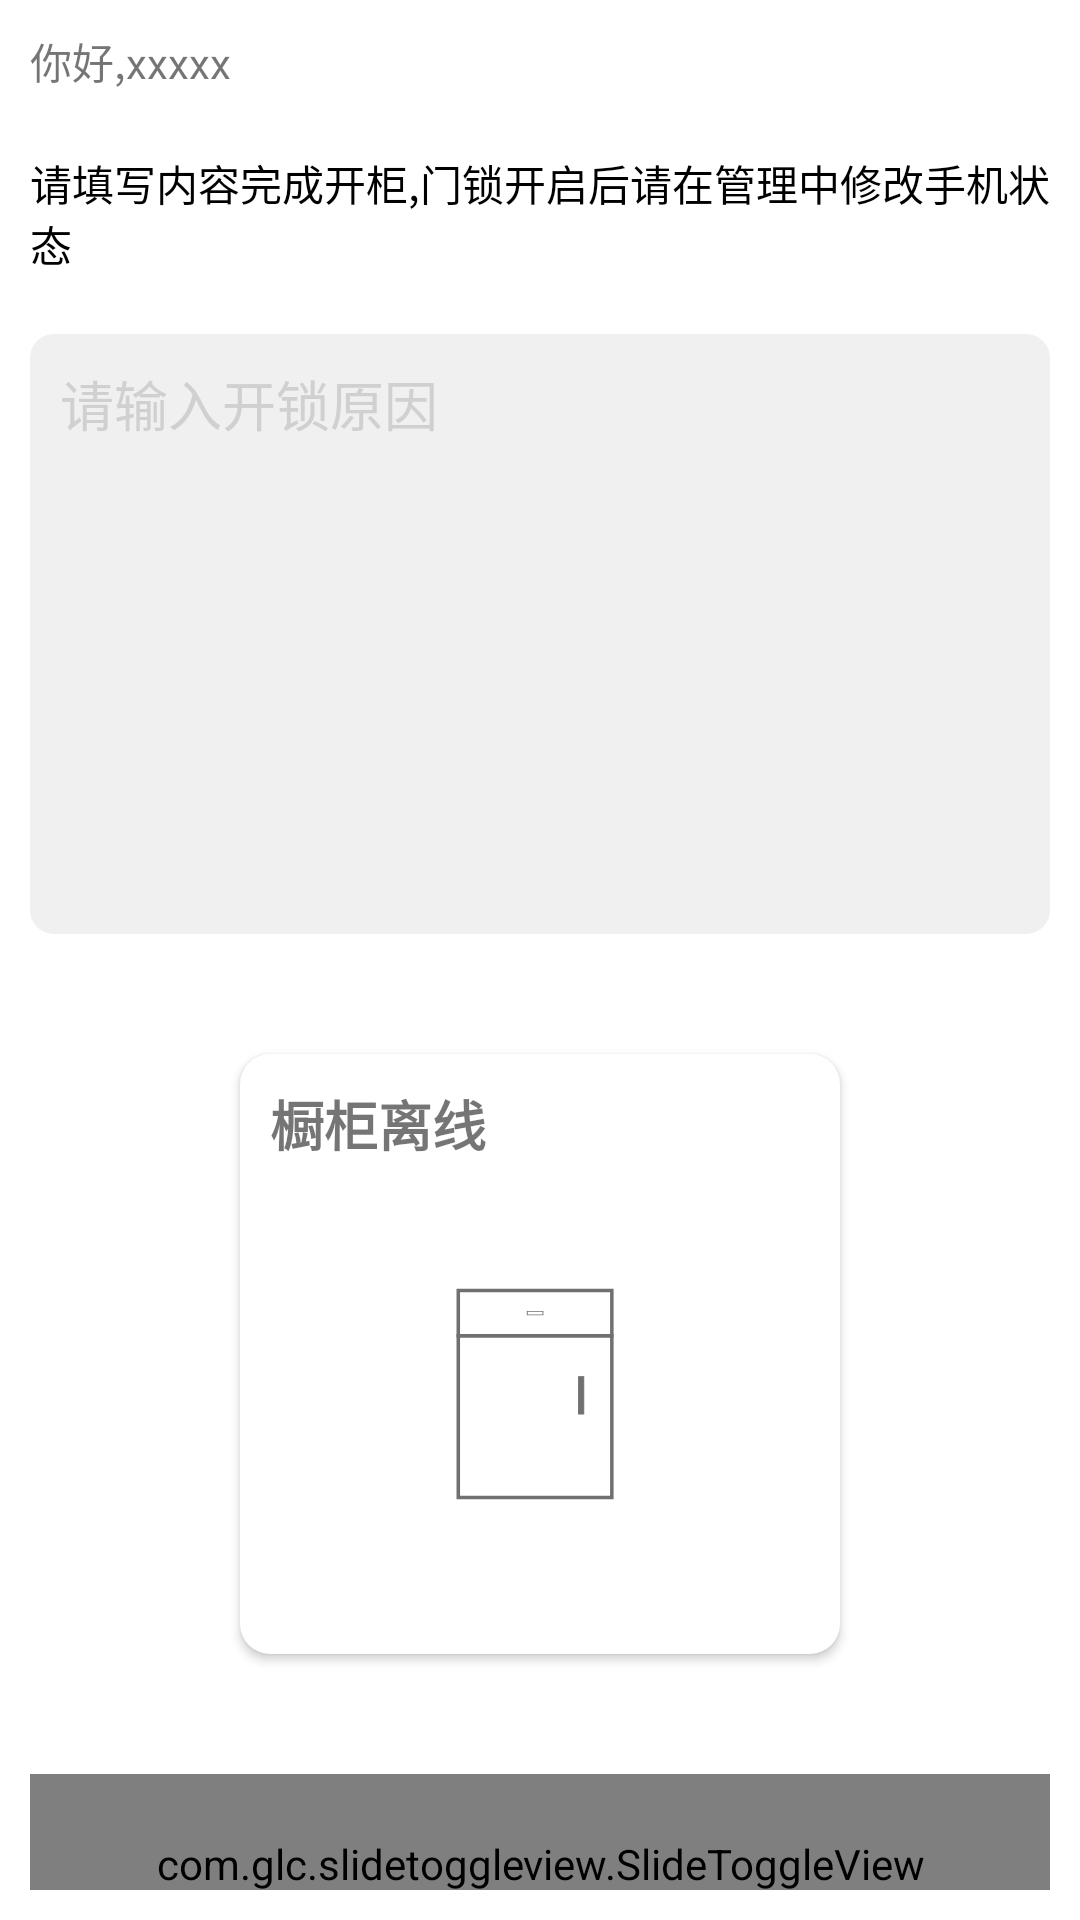

Where icons sit on this 1080*1920 app screen, as {"x1": x1, "y1": y1, "x2": x2, "y2": y2}:
cabinet: {"x1": 456, "y1": 1288, "x2": 614, "y2": 1500}
